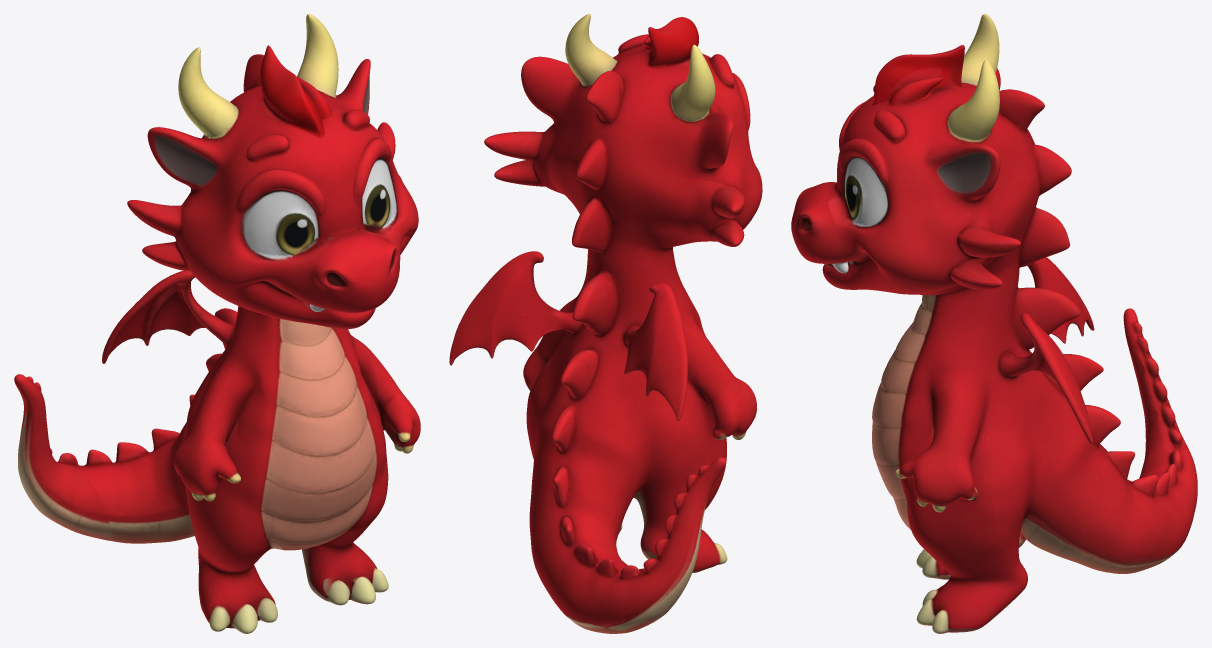
File: Meshy_AI_Ruby_the_Little_Drago_0918003743_texture.glb
The picture shows the model from 3 angles, left to right: view 1: azimuth 30°, elevation 25°; view 2: azimuth 150°, elevation 25°; view 3: azimuth 270°, elevation 25°; orthographic projection. The views are drawn at different scales.
Bounding box in the file's own units: 1.09 × 1.9 × 1.27.
Materials: 1 (1 with a texture image).
